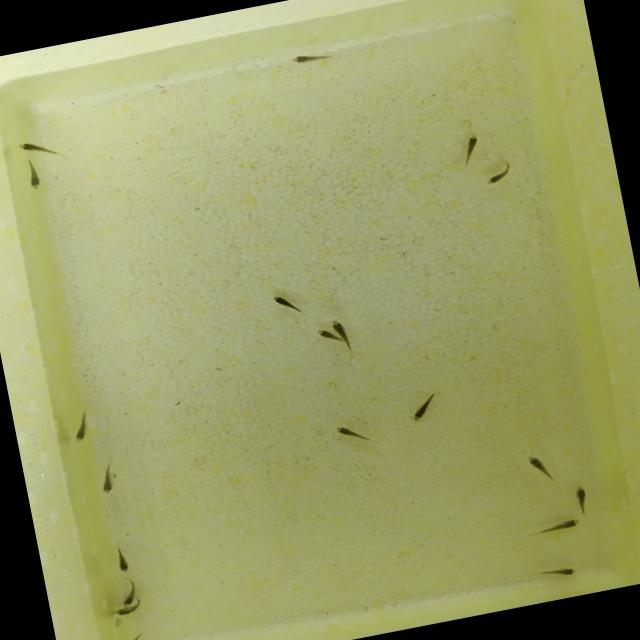fingerling: (329, 416, 379, 454), (13, 133, 64, 164), (405, 387, 445, 424), (90, 456, 124, 497), (526, 516, 583, 540), (64, 406, 98, 446), (268, 288, 308, 322), (330, 315, 358, 362), (454, 130, 486, 168), (526, 562, 580, 584), (481, 159, 518, 191), (525, 450, 557, 486), (109, 538, 136, 576), (287, 48, 334, 69), (572, 481, 594, 516), (22, 163, 46, 192), (116, 578, 140, 606), (112, 604, 144, 620), (113, 629, 148, 640), (314, 325, 332, 342)
